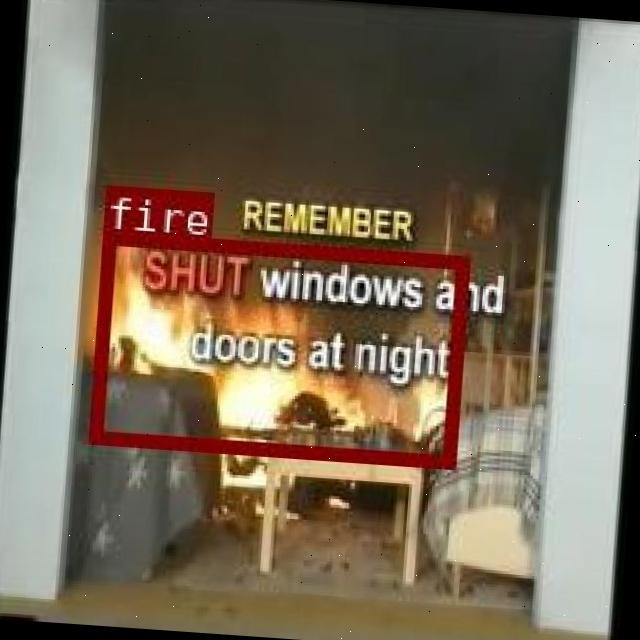fire: (88, 228, 468, 466)
